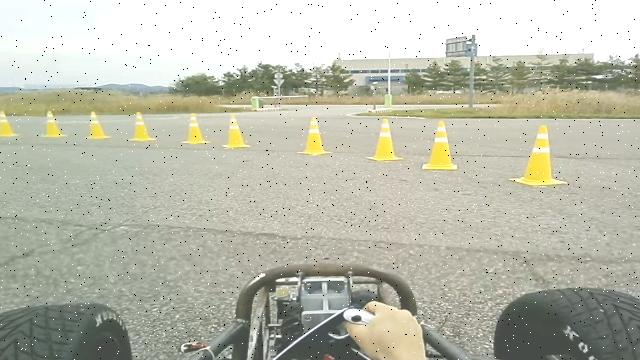yellow cone: (508, 124, 568, 187), (364, 117, 404, 162), (422, 120, 458, 170), (296, 116, 332, 155), (180, 112, 211, 144), (222, 113, 250, 148), (127, 111, 156, 142), (83, 110, 111, 140), (41, 109, 68, 138), (0, 110, 19, 137)
